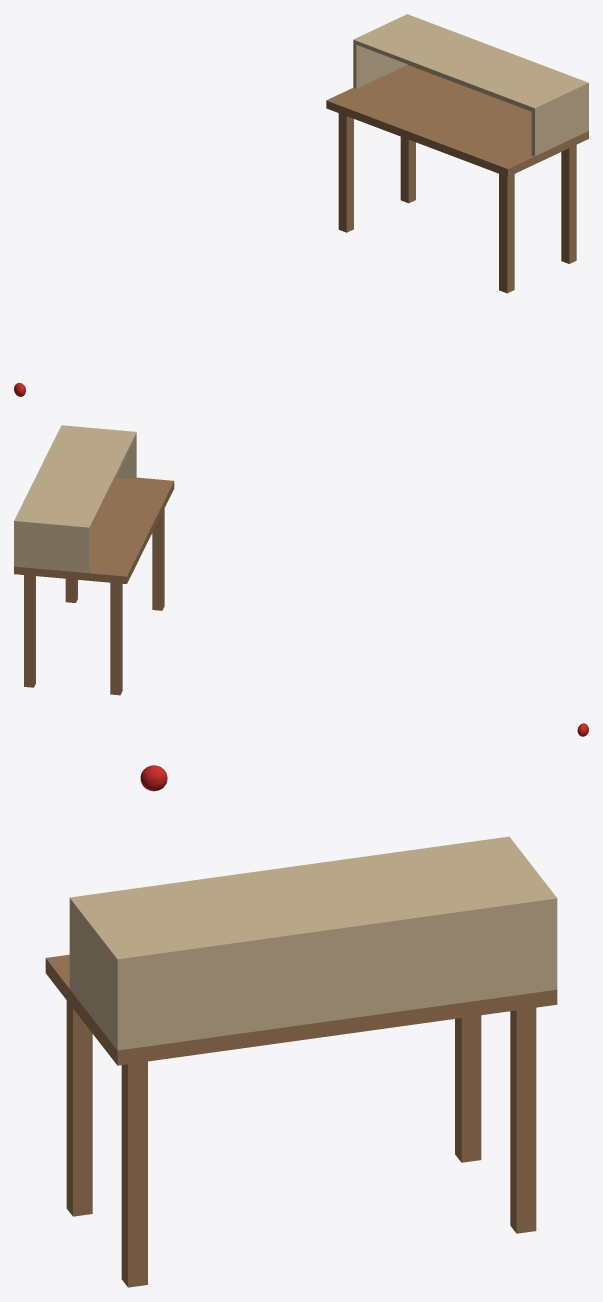
File: g1_01_pickplace_props.glb
3 views of the same model, one above another, from view 1: azimuth 30°, elevation 25°; view 2: azimuth 150°, elevation 25°; view 3: azimuth 270°, elevation 25° (orthographic). The views are drawn at different scales.
Parts seen in each view (by area): view 1: s000, s007, s005, s001, s002, s003, s006, s004, s008; view 2: s007, s000, s006, s002, s004, s001, s005, s008; view 3: s008, s007, s000, s004, s003, s005, s001, s002, s006.
Part boxes in pixels (left/top/right/bottom): s000: left=326, top=65, right=588, bottom=176; s007: left=356, top=15, right=581, bottom=110; s005: left=531, top=81, right=588, bottom=156; s001: left=499, top=174, right=514, bottom=293; s002: left=338, top=113, right=353, bottom=232; s003: left=561, top=145, right=576, bottom=263; s006: left=353, top=14, right=409, bottom=88; s004: left=400, top=137, right=415, bottom=203; s008: left=407, top=15, right=585, bottom=111; s007: left=19, top=427, right=135, bottom=528; s000: left=14, top=477, right=174, bottom=583; s006: left=14, top=519, right=90, bottom=573; s002: left=110, top=582, right=122, bottom=695; s004: left=24, top=575, right=35, bottom=687; s001: left=152, top=508, right=164, bottom=610; s005: left=61, top=425, right=136, bottom=479; s008: left=15, top=427, right=64, bottom=519; s008: left=123, top=896, right=549, bottom=1049; s007: left=77, top=837, right=549, bottom=965; s000: left=45, top=954, right=557, bottom=1065; s004: left=510, top=1007, right=536, bottom=1233; s003: left=121, top=1061, right=147, bottom=1287; s005: left=69, top=896, right=125, bottom=1050; s001: left=66, top=1000, right=92, bottom=1216; s002: left=455, top=1015, right=481, bottom=1162; s006: left=502, top=836, right=557, bottom=990.
Size of the model in its own units: 2.97 by 0.9275 by 1.23.
